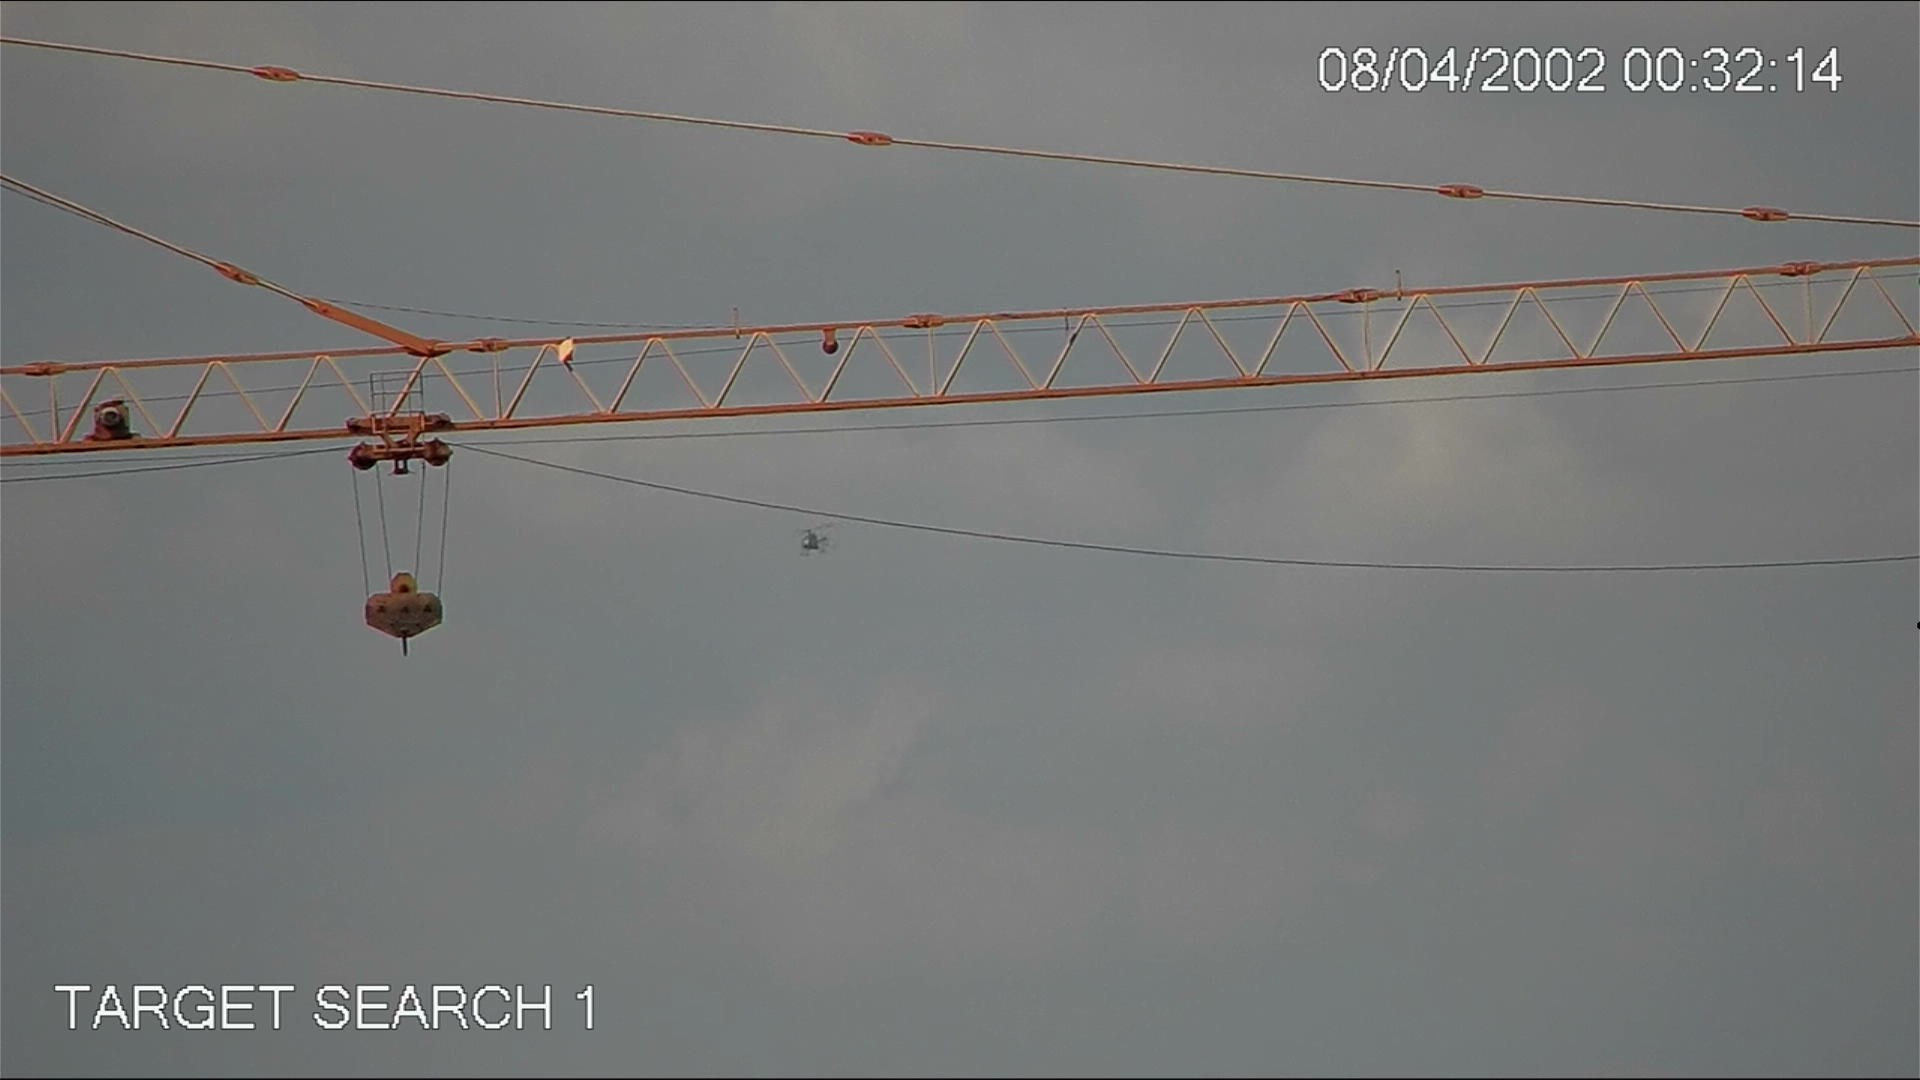SU_30: (789, 516, 849, 566)
